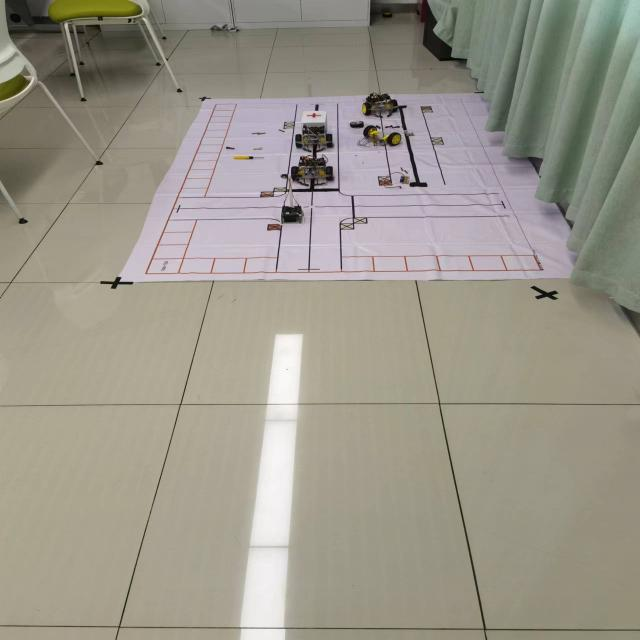RedCross: (299, 110, 327, 122)
